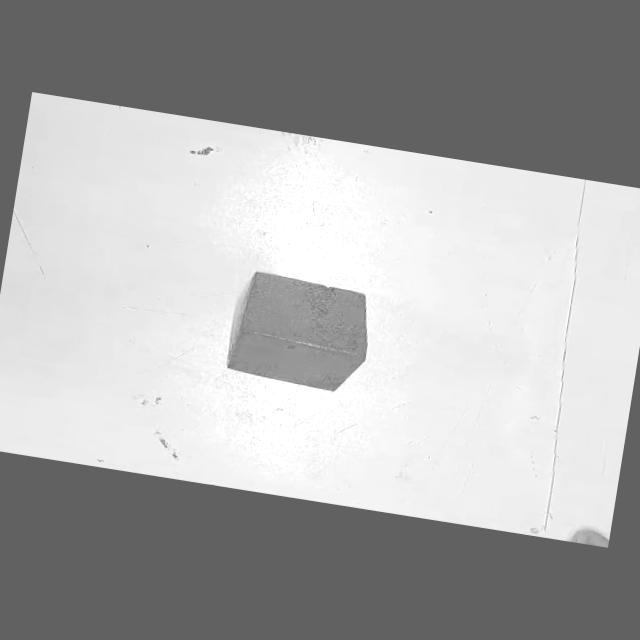rtriangle: (227, 272, 368, 390)
